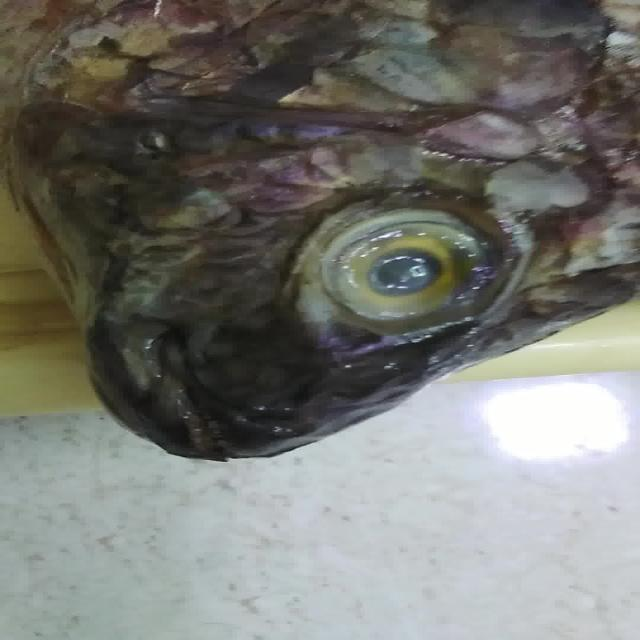Non-Fresh: (302, 176, 522, 350)
